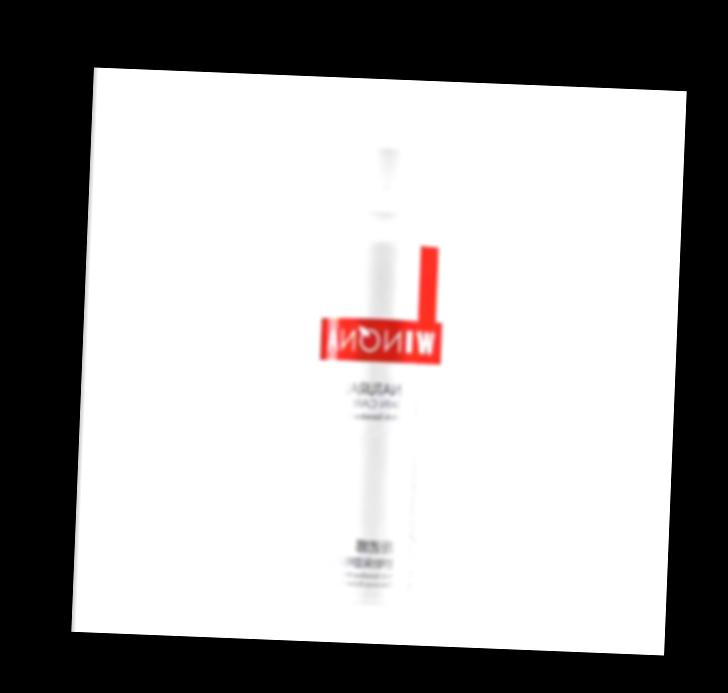cosmetic: (307, 104, 454, 609)
